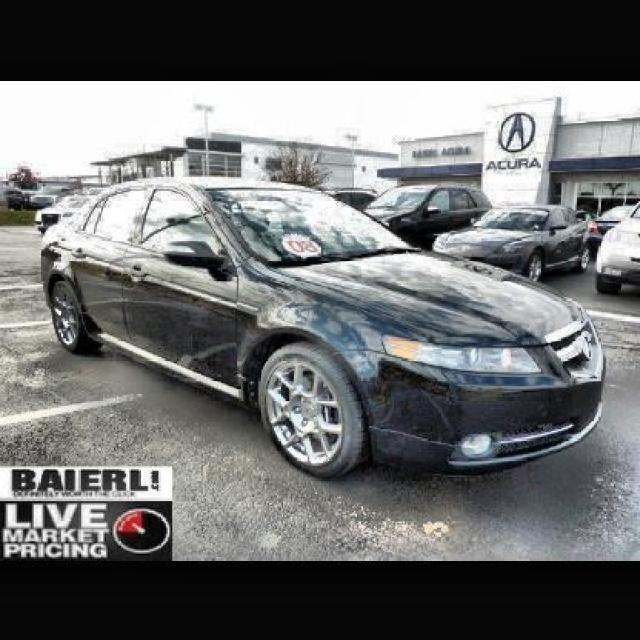black: (46, 169, 611, 485)
